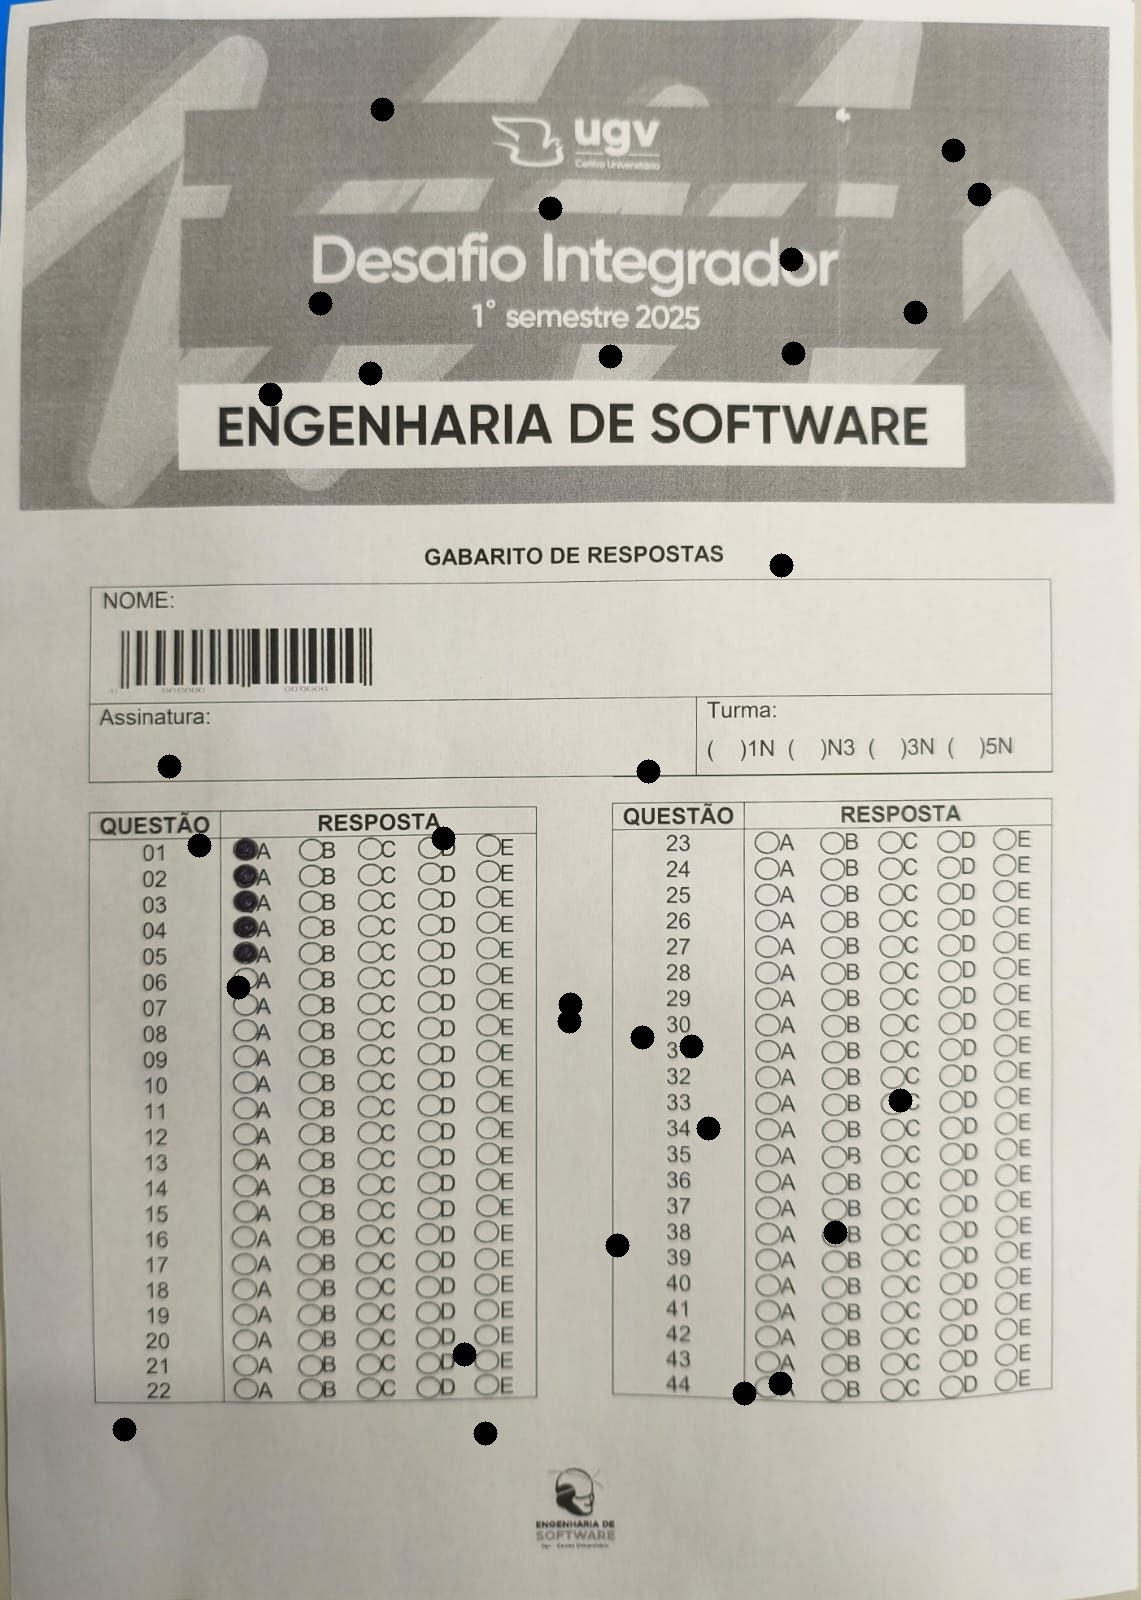bolinha: (888, 1083, 913, 1117), (780, 336, 805, 370), (557, 1004, 582, 1038), (630, 1020, 654, 1054), (822, 1215, 847, 1249), (157, 749, 182, 783), (967, 178, 992, 211), (307, 286, 332, 320), (598, 340, 622, 373), (186, 828, 211, 862), (903, 295, 927, 328), (358, 356, 382, 390), (226, 970, 249, 1004), (605, 1228, 629, 1262), (558, 988, 582, 1021), (696, 1111, 720, 1144), (679, 1030, 703, 1063), (538, 191, 562, 225), (779, 242, 803, 275), (636, 754, 659, 788), (732, 1377, 756, 1410), (370, 93, 394, 126), (431, 821, 454, 854), (112, 1412, 136, 1446), (473, 1416, 496, 1449), (768, 1367, 792, 1400), (941, 133, 964, 167), (769, 548, 793, 581), (258, 378, 282, 411), (452, 1337, 475, 1370)
